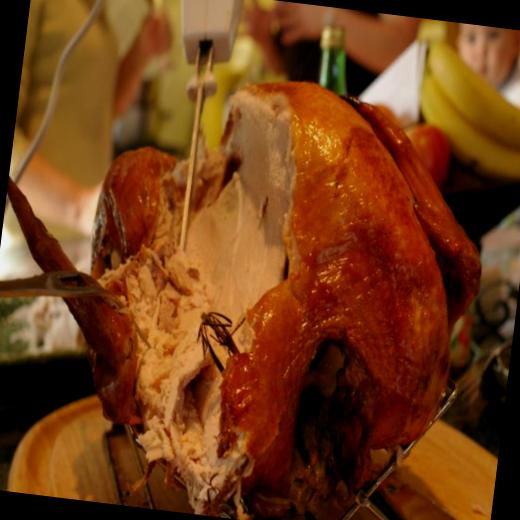Banana: (400, 17, 520, 189)
